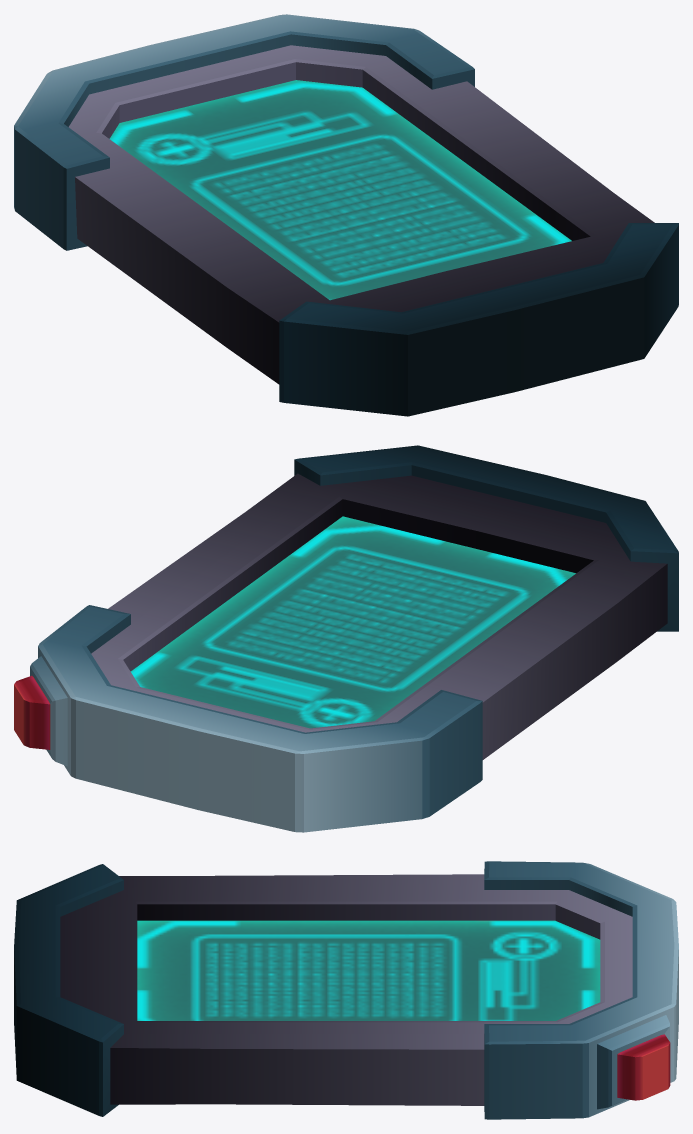
The model's file is Tablet.fbx.
3 views of the same model, one above another, from view 1: azimuth 30°, elevation 25°; view 2: azimuth 150°, elevation 25°; view 3: azimuth 270°, elevation 25° (orthographic). The views are drawn at different scales.
Parts seen in each view (by area): view 1: Tablet; view 2: Tablet; view 3: Tablet.
Boxes of the visible parts, x1,y1,x2,y2 form: Tablet: (14,14,678,416); Tablet: (14,445,678,832); Tablet: (14,861,678,1119).
Bounding box in the file's own units: 482 × 96.16 × 740.
1 material, 1 textured.
